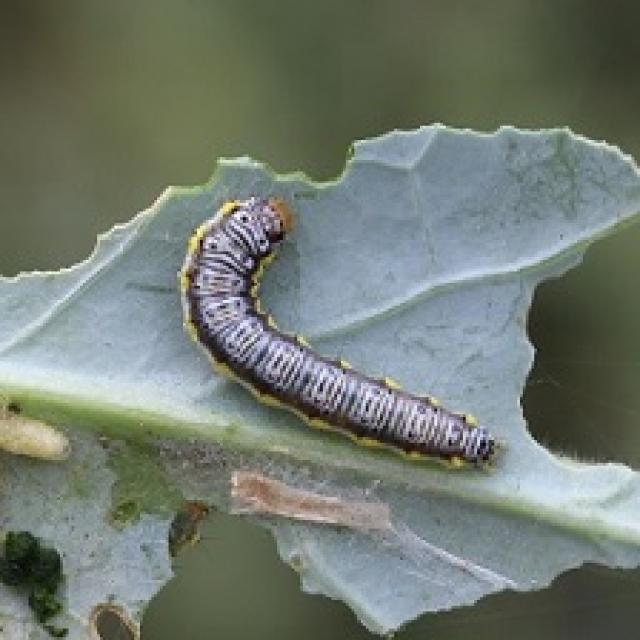Cabbage-worm: (179, 181, 512, 477), (1, 397, 94, 481)
